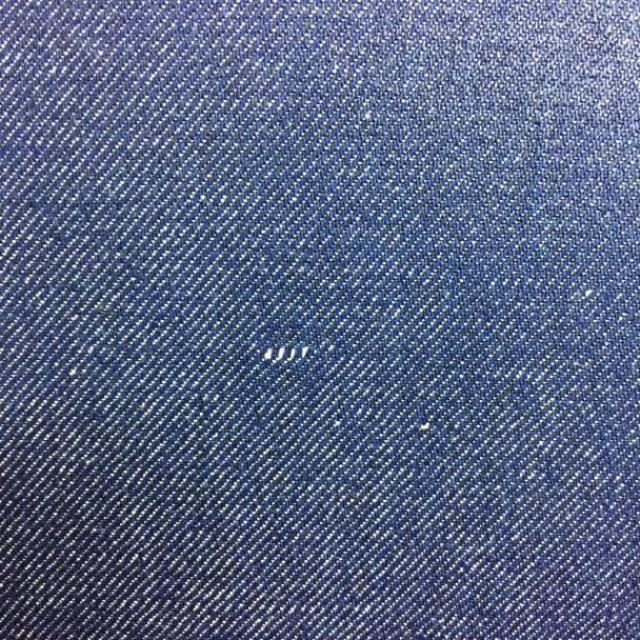Knot: (264, 346, 312, 363)
